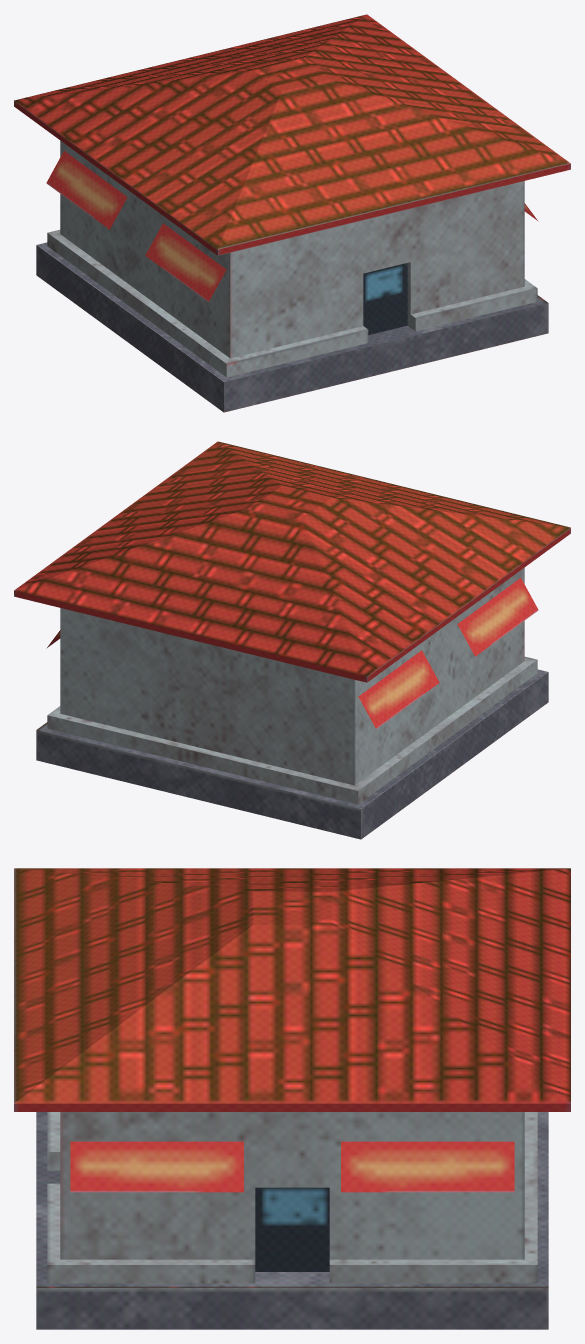
File: houseshop.fbx
3 views of the same model, one above another, from view 1: azimuth 30°, elevation 25°; view 2: azimuth 150°, elevation 25°; view 3: azimuth 270°, elevation 25° (orthographic). The views are drawn at different scales.
Parts seen in each view (by area): view 1: Cube.003, Cube.002, Cube.009, Plane.002; view 2: Cube.003, Cube.002, Cube.009, Plane.002; view 3: Cube.003, Cube.002, Cube.009, Plane.002.
Boxes of the visible parts, x1,y1,x2,y2 form: Cube.003: [14, 14, 570, 255]; Cube.002: [47, 140, 537, 377]; Cube.009: [36, 242, 548, 412]; Plane.002: [46, 151, 538, 301]; Cube.003: [14, 441, 570, 682]; Cube.002: [47, 567, 537, 804]; Cube.009: [36, 669, 548, 839]; Plane.002: [46, 578, 538, 728]; Cube.003: [14, 868, 570, 1111]; Cube.002: [47, 1112, 537, 1283]; Cube.009: [36, 1112, 548, 1329]; Plane.002: [70, 1141, 514, 1192].
Bounding box in the file's own units: 1293 × 802 × 1293.
